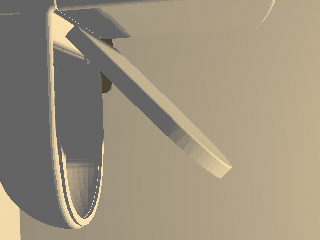lid_1: (66, 26, 233, 179)
